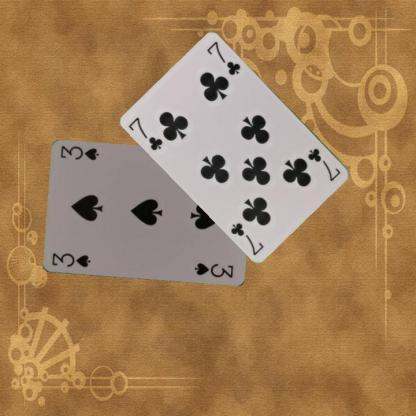3s: (49, 250, 91, 268)
7c: (126, 114, 164, 152), (305, 146, 343, 182)
